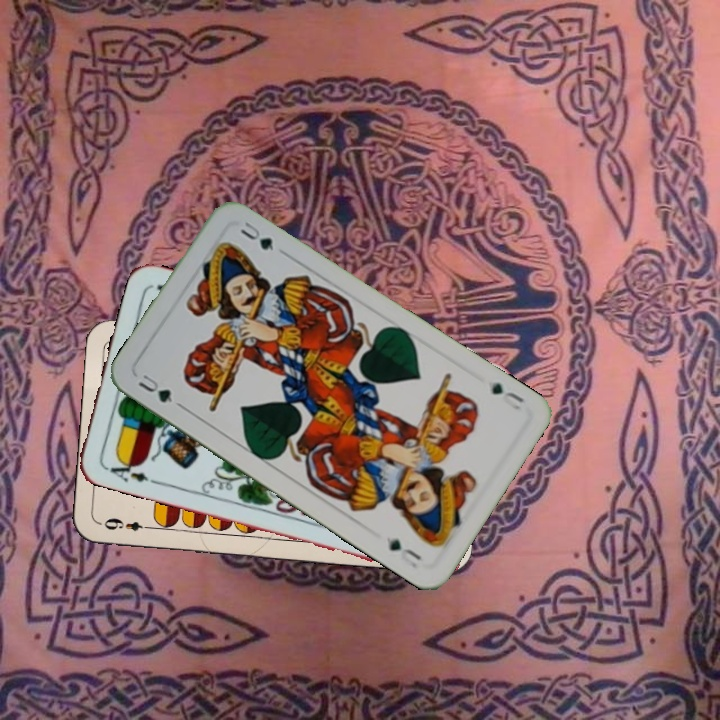E9: (97, 514, 156, 534)
EA: (100, 453, 151, 485)
GU: (134, 370, 176, 406), (487, 377, 527, 413)
